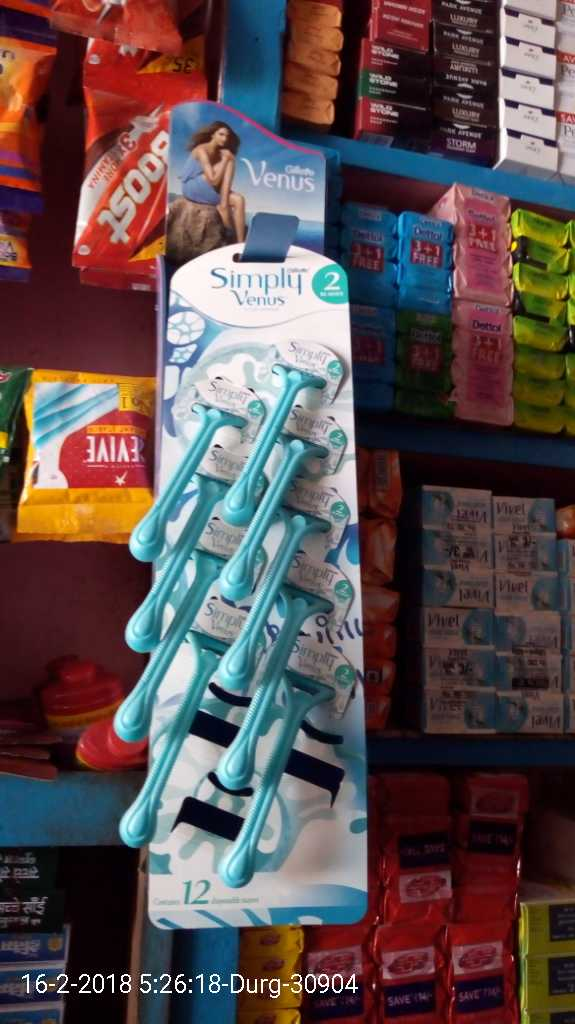reject: (303, 203, 431, 278)
